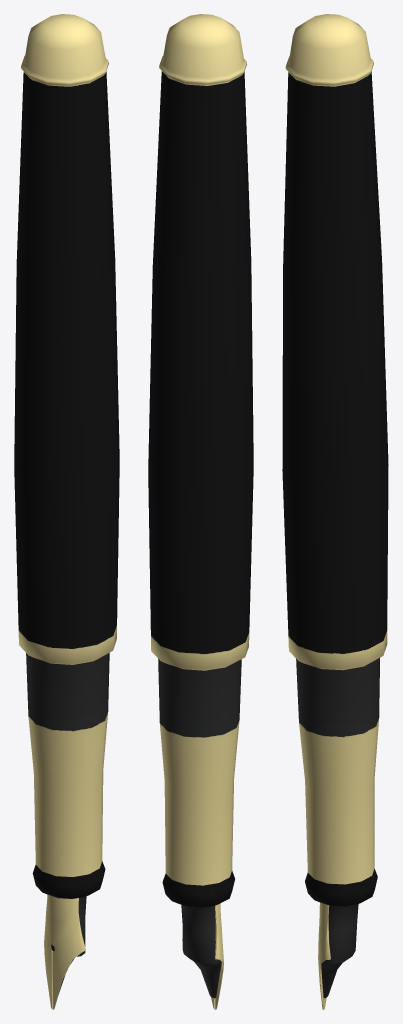
The model's file is penCompressed.glb.
3 renders of one model, left to right at view 1: azimuth 30°, elevation 25°; view 2: azimuth 210°, elevation 25°; view 3: azimuth 330°, elevation 25°, orthographic.
Parts seen in each view (by area): view 1: caps; view 2: caps; view 3: caps.
Part boxes in pixels (x1=…): caps: x1=14, y1=14, x2=119, y2=1009; caps: x1=148, y1=14, x2=253, y2=1009; caps: x1=282, y1=14, x2=388, y2=1009.
Size of the model in its own units: 0.1805 by 1.87 by 0.1806.
Materials: 1 (1 with a texture image).
